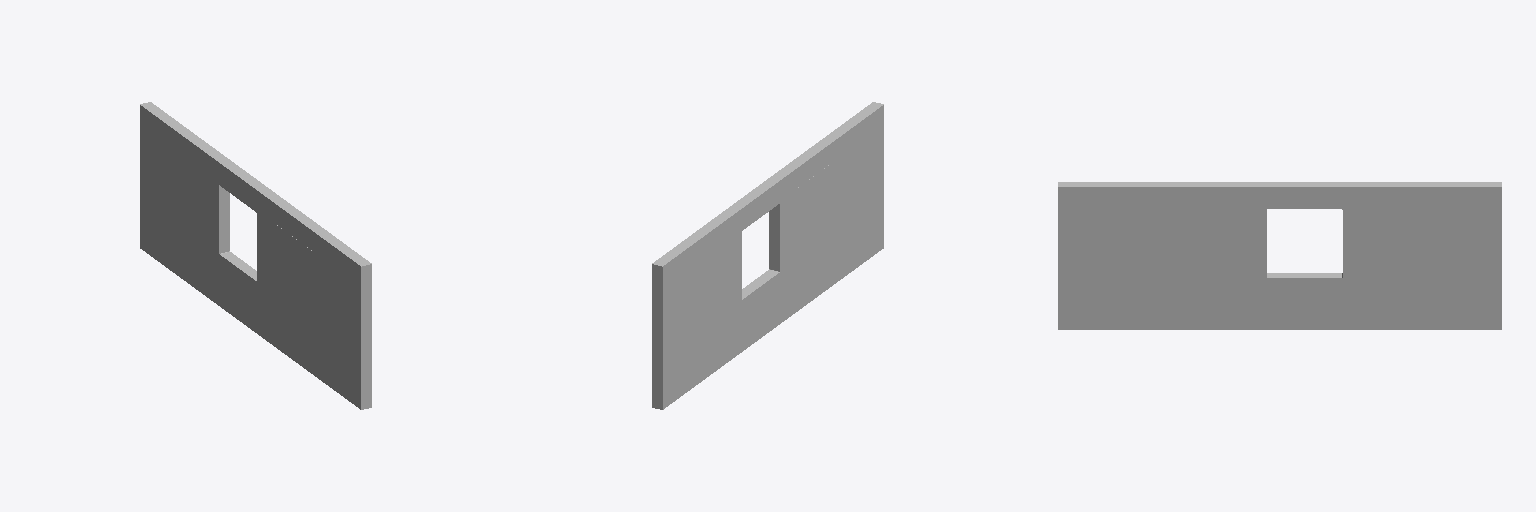
The model's file is window-wall.obj.
3 views of the same model, side by side, from view 1: azimuth 30°, elevation 25°; view 2: azimuth 150°, elevation 25°; view 3: azimuth 270°, elevation 25° (orthographic).
Visible parts, largest first — view 1: Wand_Fenster_Wand_Fenster.001; view 2: Wand_Fenster_Wand_Fenster.001; view 3: Wand_Fenster_Wand_Fenster.001.
Part boxes in pixels (bbox=[...]): Wand_Fenster_Wand_Fenster.001: bbox=[140, 102, 371, 409]; Wand_Fenster_Wand_Fenster.001: bbox=[652, 102, 883, 409]; Wand_Fenster_Wand_Fenster.001: bbox=[1058, 182, 1501, 329].
Bounding box in the file's own units: 20.43 × 250 × 700.